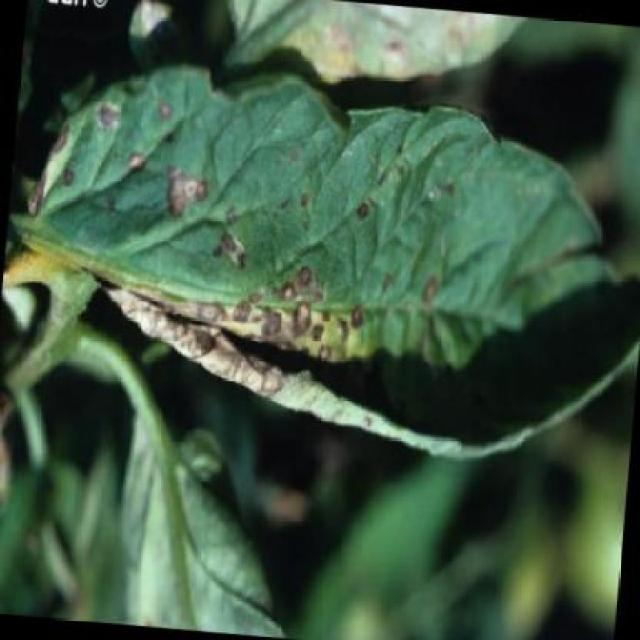Septoria leaf spot: (11, 43, 640, 485)
